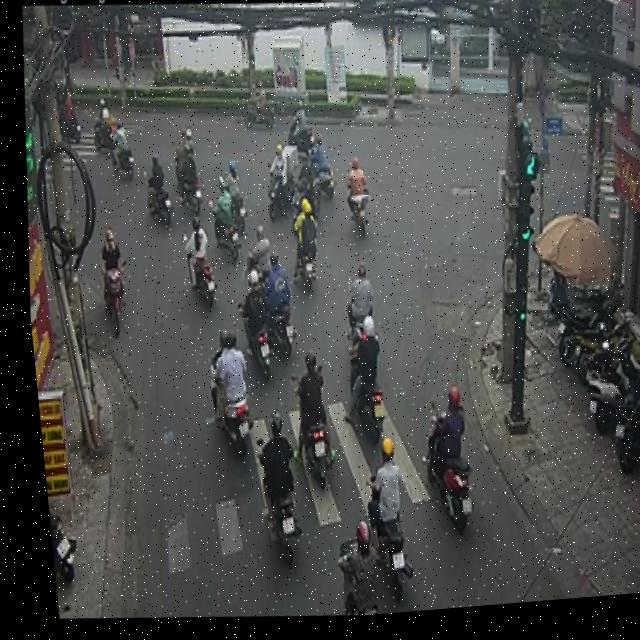Green: (509, 160, 544, 262), (508, 290, 524, 342)
